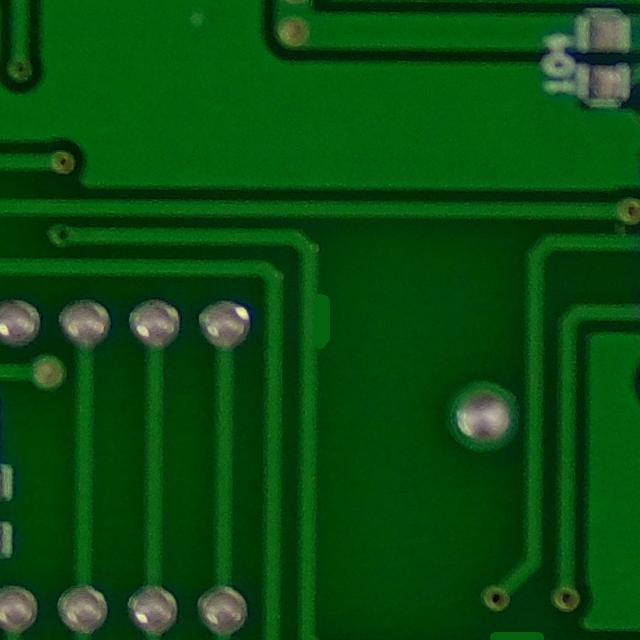spur: (289, 278, 351, 363)
